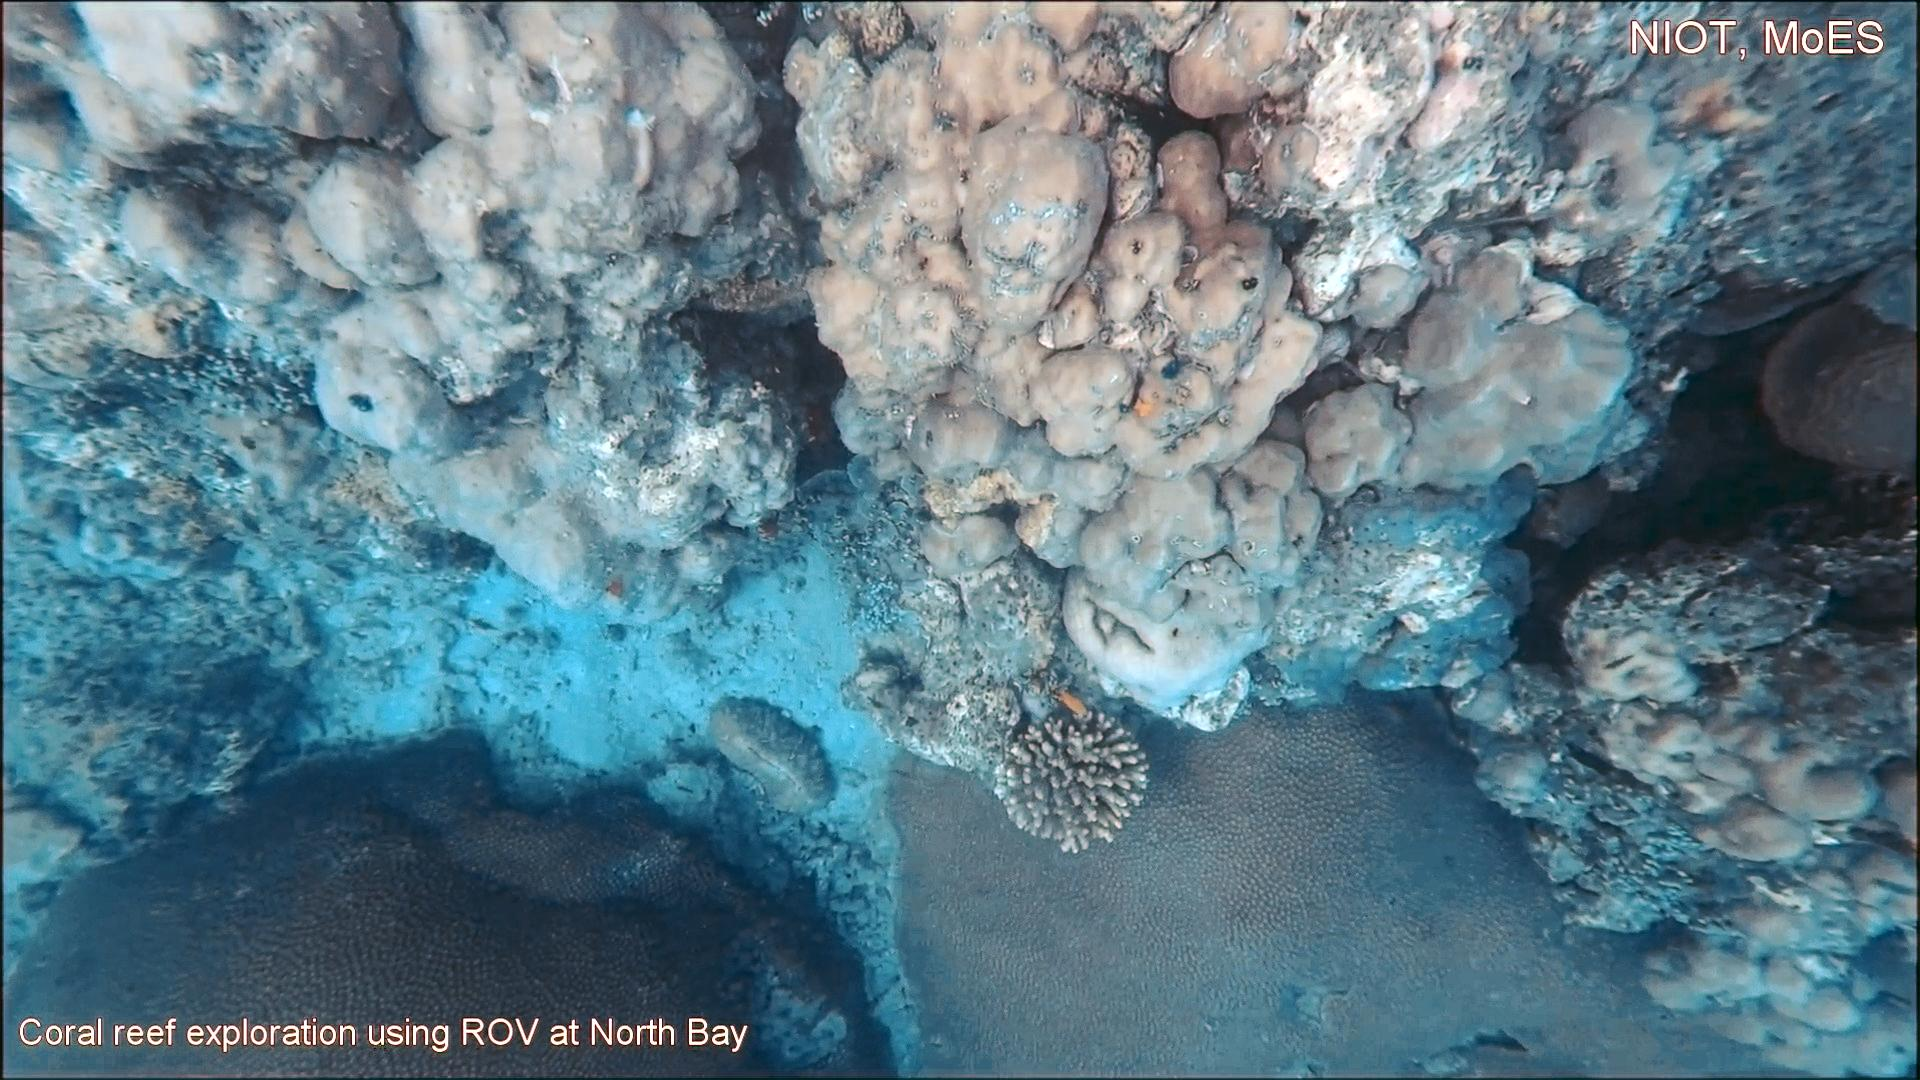Meandrina meandrites: (1746, 255, 1920, 495)
